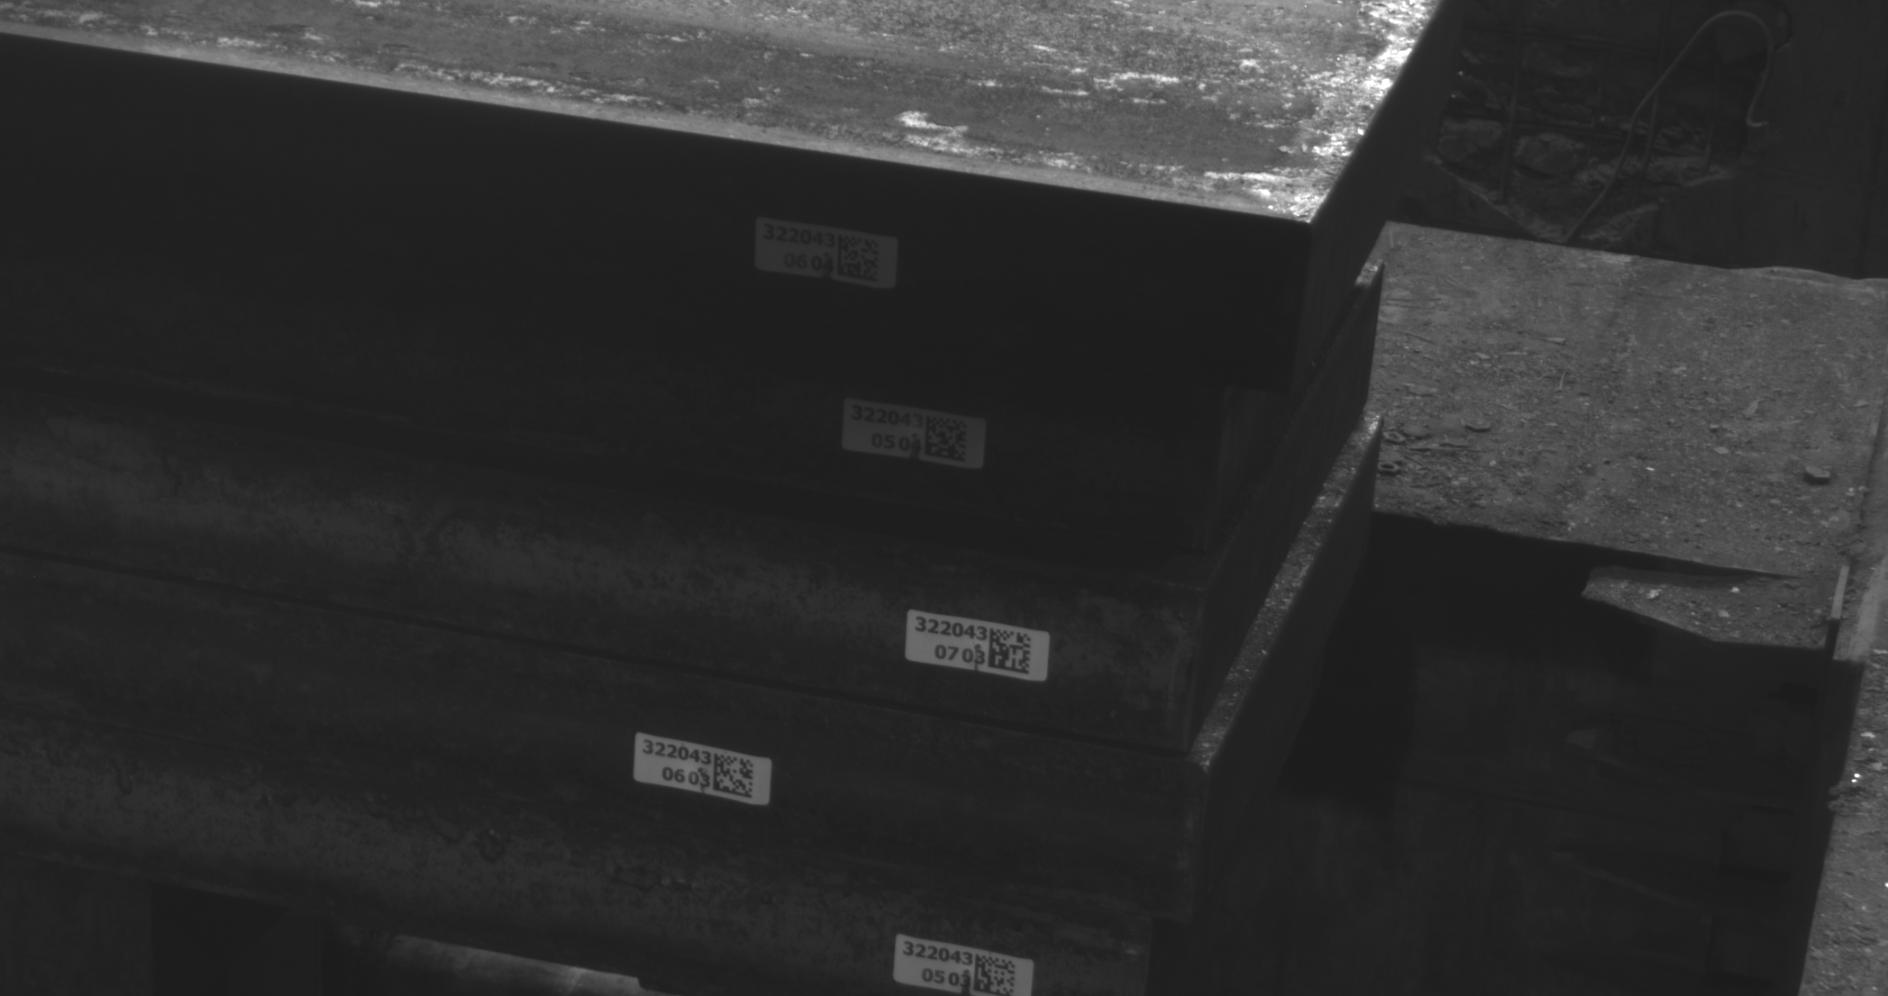data matrix: (837, 233, 885, 286), (923, 414, 971, 467), (986, 627, 1034, 678), (712, 750, 758, 801), (971, 951, 1021, 996)
